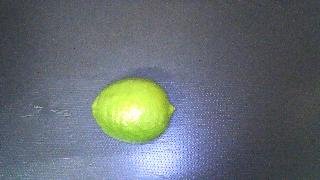EXPORTACION: (92, 77, 175, 143)
